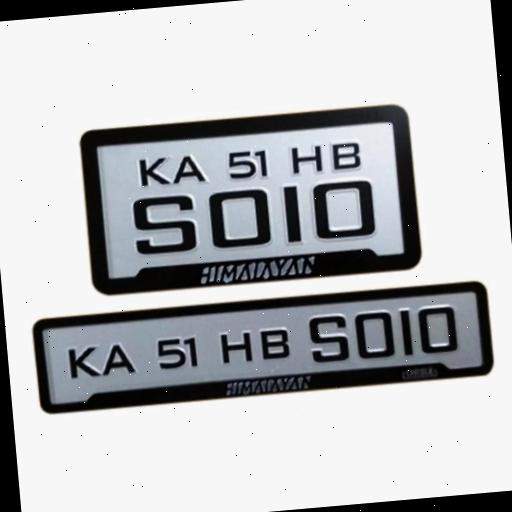number plate: (90, 112, 412, 287), (37, 288, 489, 410)
